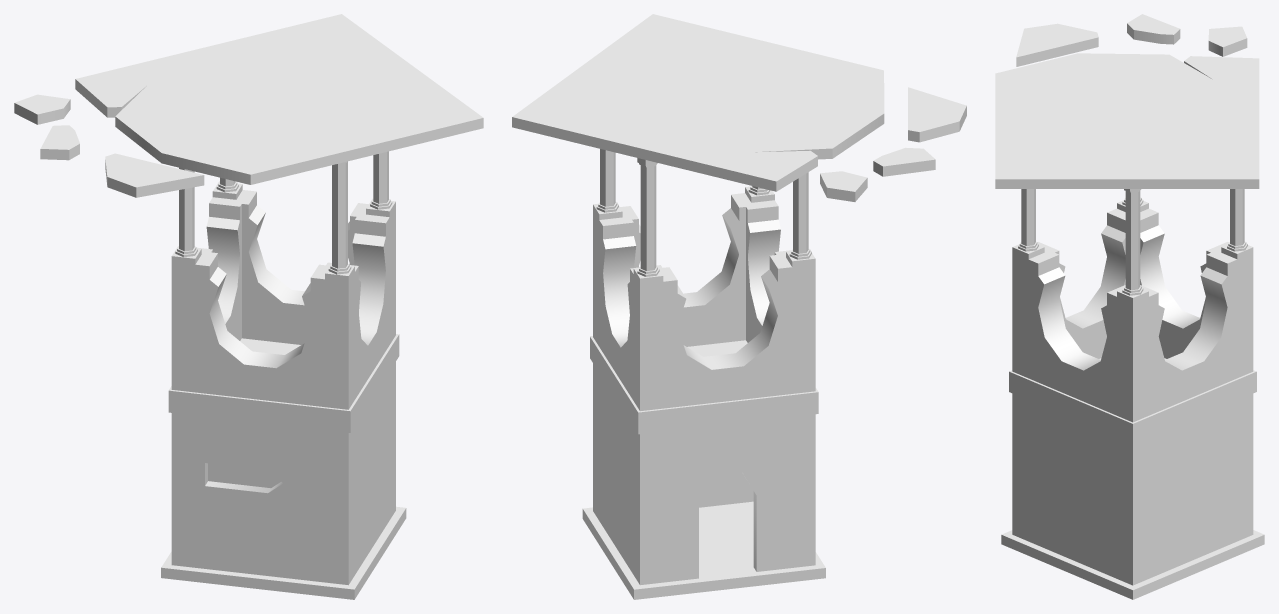
Rendered from ruine_bat_F.FBX.
3 views of the same model, side by side, from view 1: azimuth 30°, elevation 25°; view 2: azimuth 150°, elevation 25°; view 3: azimuth 270°, elevation 25° (orthographic). The views are drawn at different scales.
Parts seen in each view (by area): view 1: ruine_bat_F; view 2: ruine_bat_F; view 3: ruine_bat_F.
Boxes of the visible parts, x1=… form: ruine_bat_F: x1=14, y1=14, x2=483, y2=599; ruine_bat_F: x1=512, y1=14, x2=966, y2=599; ruine_bat_F: x1=995, y1=14, x2=1264, y2=599.
Size of the model in its own units: 19.72 by 23.48 by 13.58.
